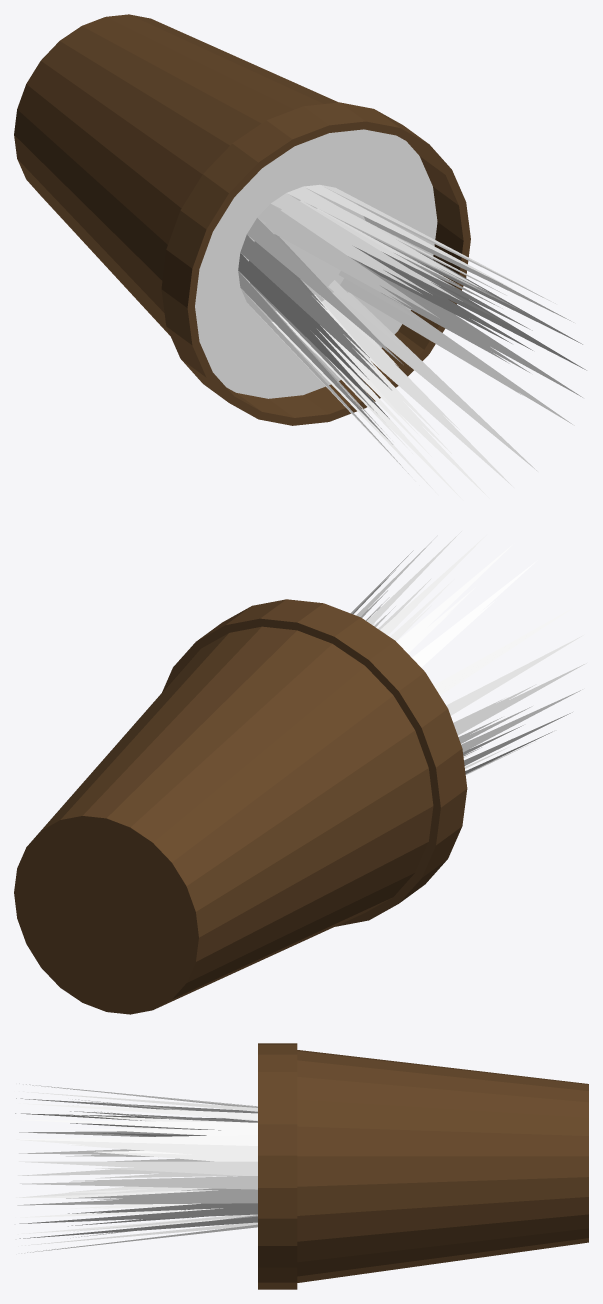
The picture shows the model from 3 angles, top to bottom: view 1: azimuth 30°, elevation 25°; view 2: azimuth 150°, elevation 25°; view 3: azimuth 270°, elevation 25°; orthographic projection. The views are drawn at different scales.
Parts seen in each view (by area): view 1: potted plant; view 2: potted plant; view 3: potted plant.
Boxes of the visible parts, box(x1,y1,x2,y2) form: potted plant: box(14, 14, 586, 500); potted plant: box(14, 531, 586, 1014); potted plant: box(15, 1043, 588, 1289).
Size of the model in its own units: 177 by 177 by 412.
